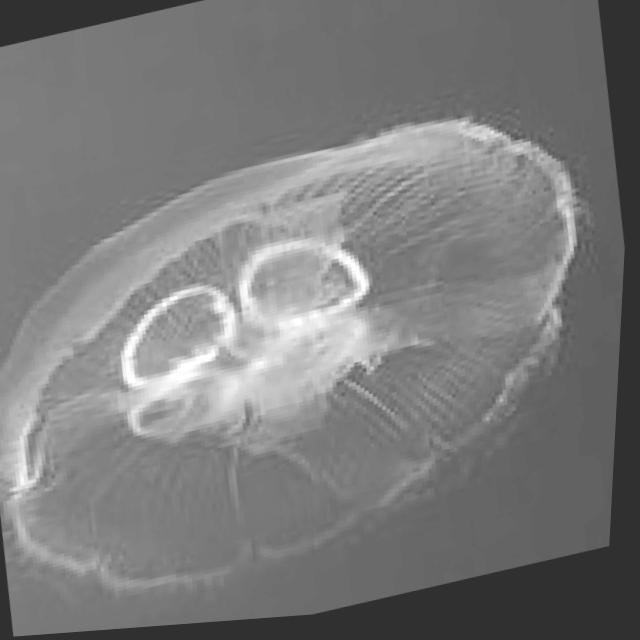Box-jellyfish: (0, 91, 634, 637)
